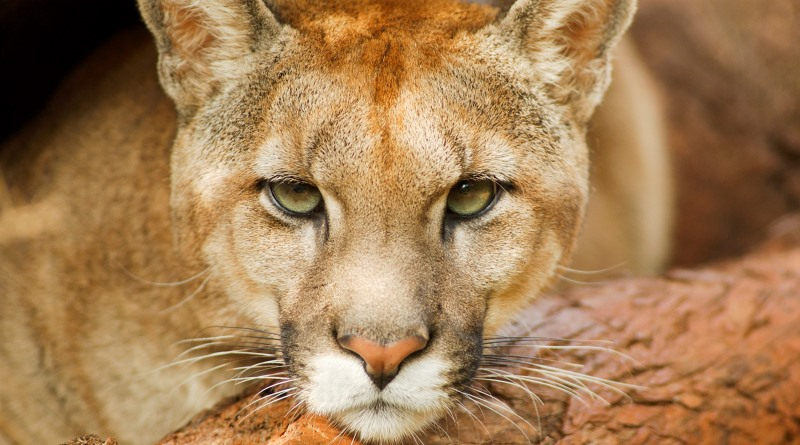OncaParda: (57, 5, 689, 441)
